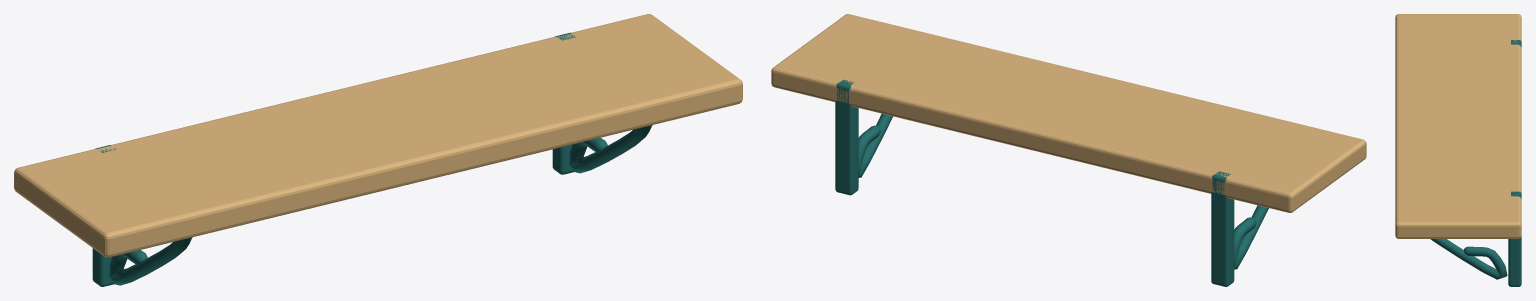
File: shelf_150.glb
3 renders of one model, left to right at view 1: azimuth 30°, elevation 25°; view 2: azimuth 150°, elevation 25°; view 3: azimuth 270°, elevation 25°, orthographic. The views are drawn at different scales.
Visible parts, largest first — view 1: Walnut_plate, Curved_scroll, Curved_scroll.001, Wall_rail, Wall_rail.001; view 2: Walnut_plate, Wall_rail, Wall_rail.001, Curved_scroll.001, Curved_scroll; view 3: Walnut_plate, Curved_scroll.001, Wall_rail.001.
Boxes of the visible parts, <box> form: Walnut_plate: <box>14,14,742,257</box>; Curved_scroll: <box>109,237,192,285</box>; Curved_scroll.001: <box>569,125,652,173</box>; Wall_rail: <box>92,145,115,286</box>; Wall_rail.001: <box>552,32,575,174</box>; Walnut_plate: <box>771,14,1366,212</box>; Wall_rail: <box>1211,171,1234,286</box>; Wall_rail.001: <box>835,79,858,195</box>; Curved_scroll.001: <box>858,113,892,177</box>; Curved_scroll: <box>1234,205,1268,269</box>; Walnut_plate: <box>1395,14,1521,238</box>; Curved_scroll.001: <box>1430,239,1507,279</box>; Wall_rail.001: <box>1508,191,1521,286</box>.
Size of the model in its own units: 1.5 by 0.3 by 0.38.
